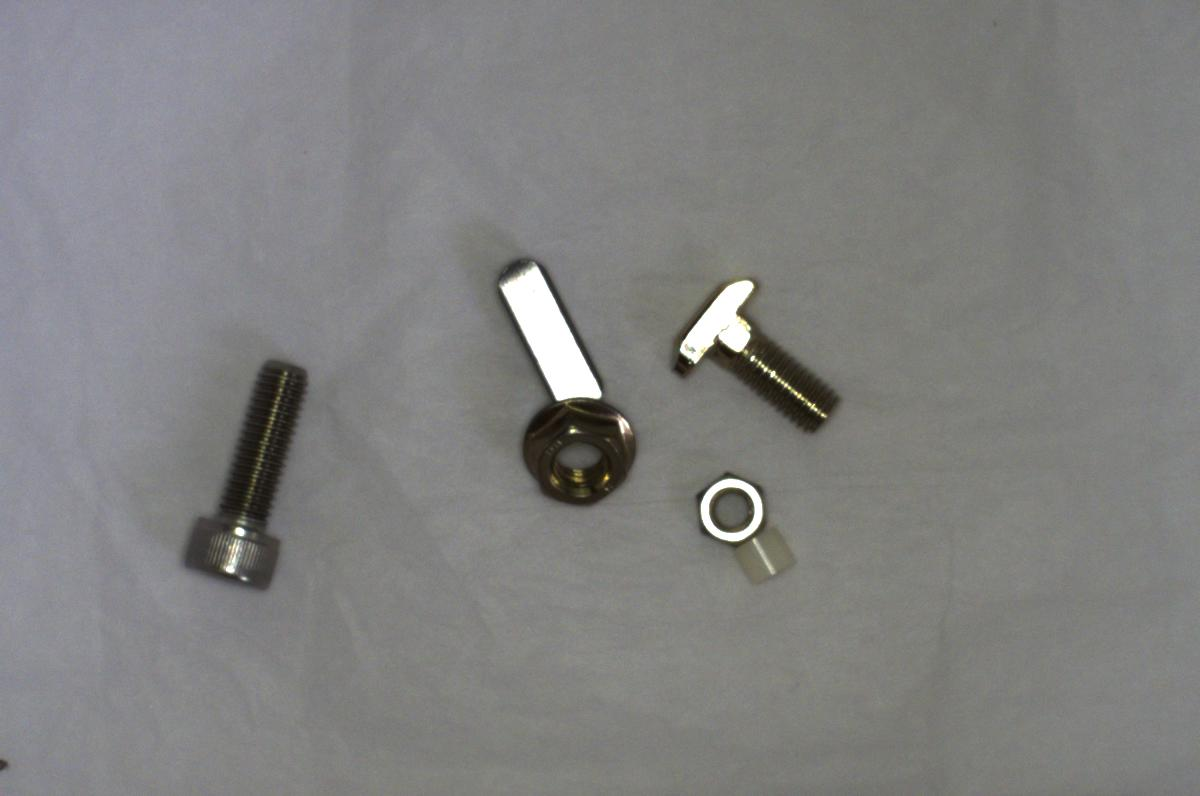Flange nut: (498, 388, 645, 514)
Hexagon nut: (679, 461, 771, 550)
Hexagon screw: (170, 353, 315, 594)
Keybar: (493, 250, 608, 406)
Plastic cushion pillar: (728, 523, 807, 594)
T-shaped screw: (658, 273, 848, 434)
